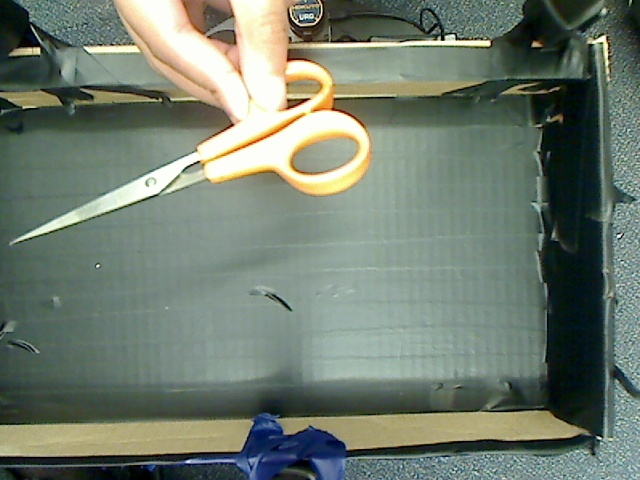scissors: (1, 40, 383, 260)
